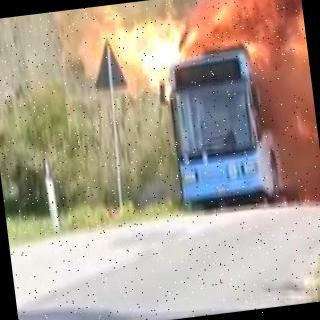smoke: (282, 113, 320, 217)
